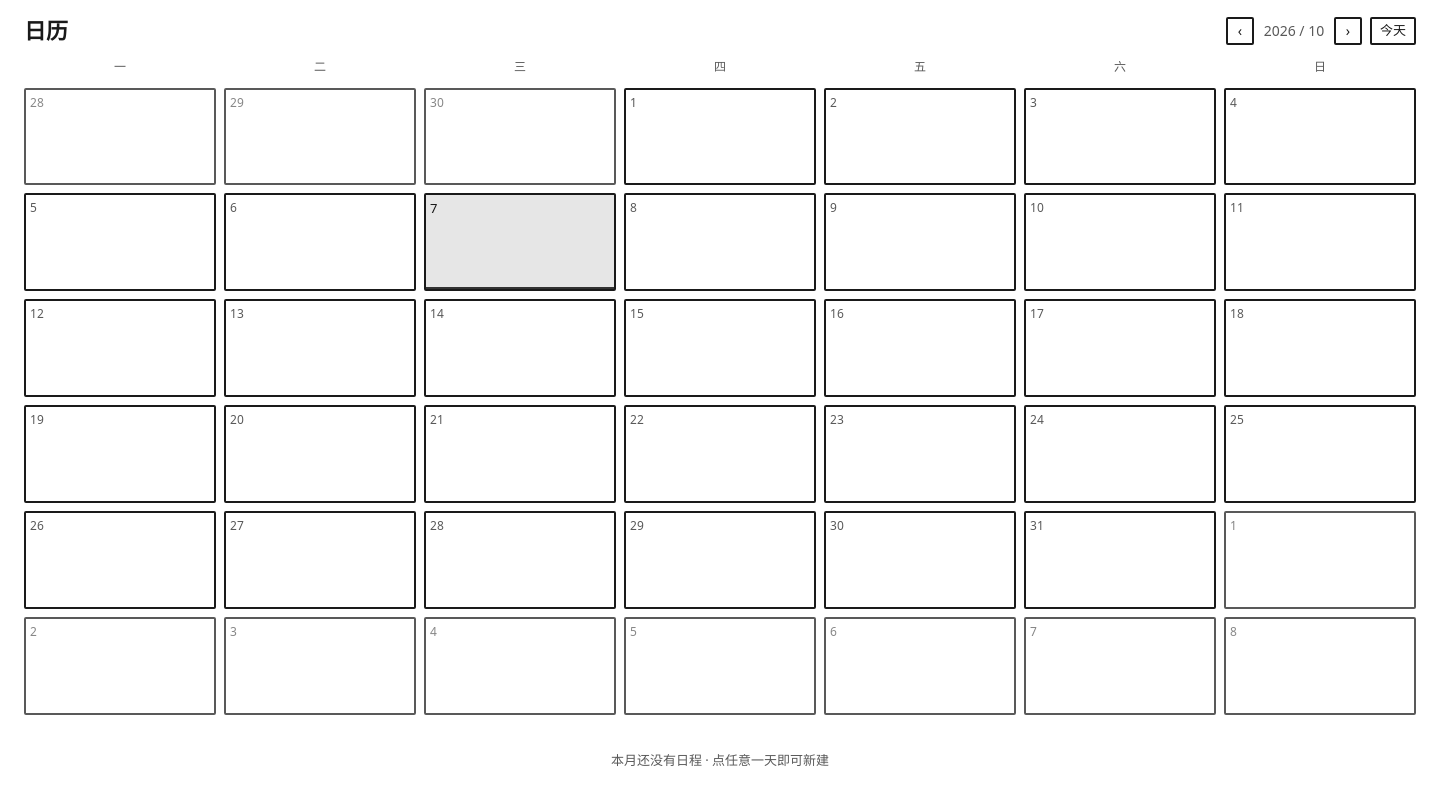
T97-01 二级栏 · 近 7 天 › ⑩ 跨栏联动：页面建日程后二级栏自动刷新（变更广播）
Click the 1st cell "7" at (520, 242), box [424, 194, 616, 291]
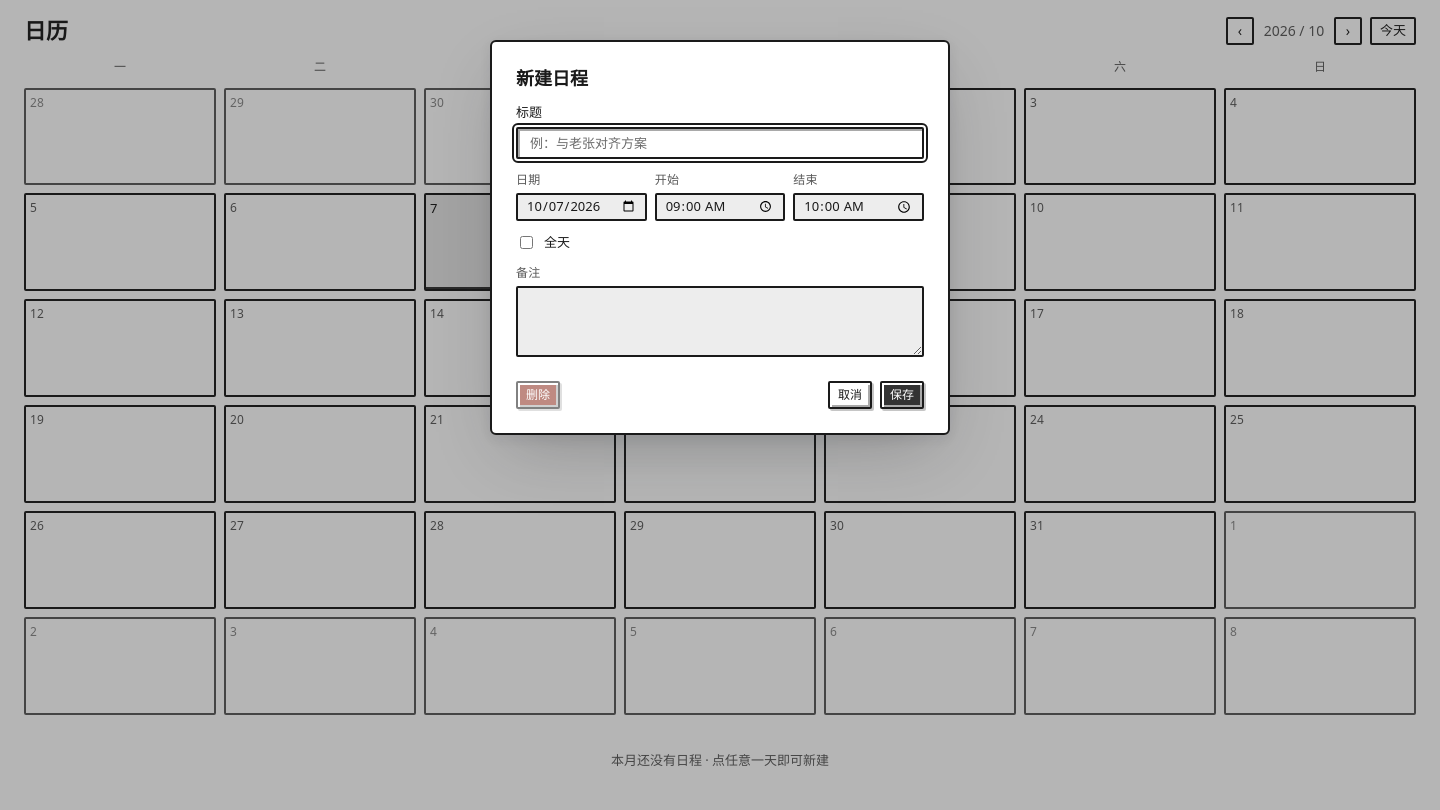
Type "联动日程" into the field with test id "calendar-event-title" at (720, 143), box [516, 127, 924, 159]
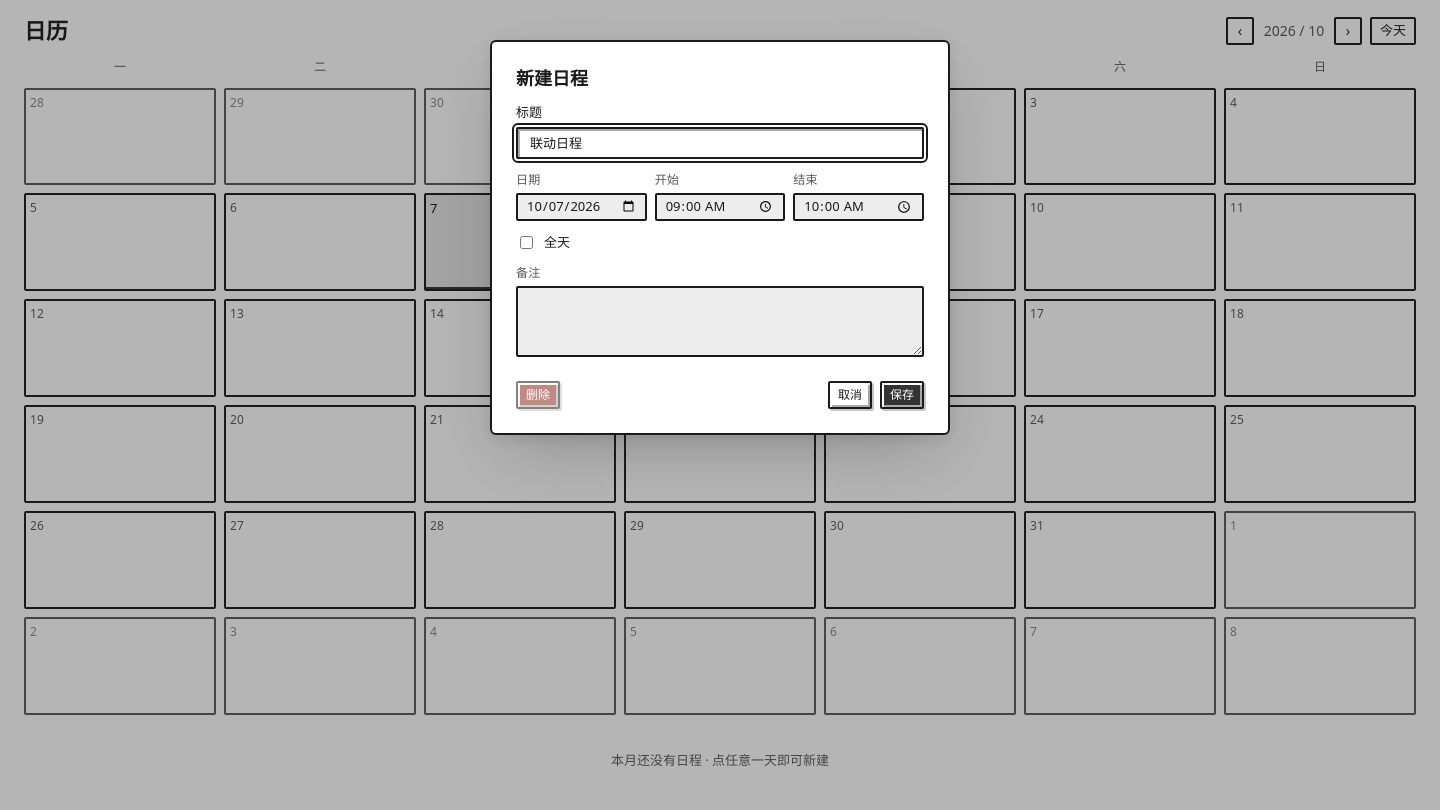
Click the button with test id "calendar-event-save" at (902, 395), box [880, 381, 924, 409]
(page scrolled)
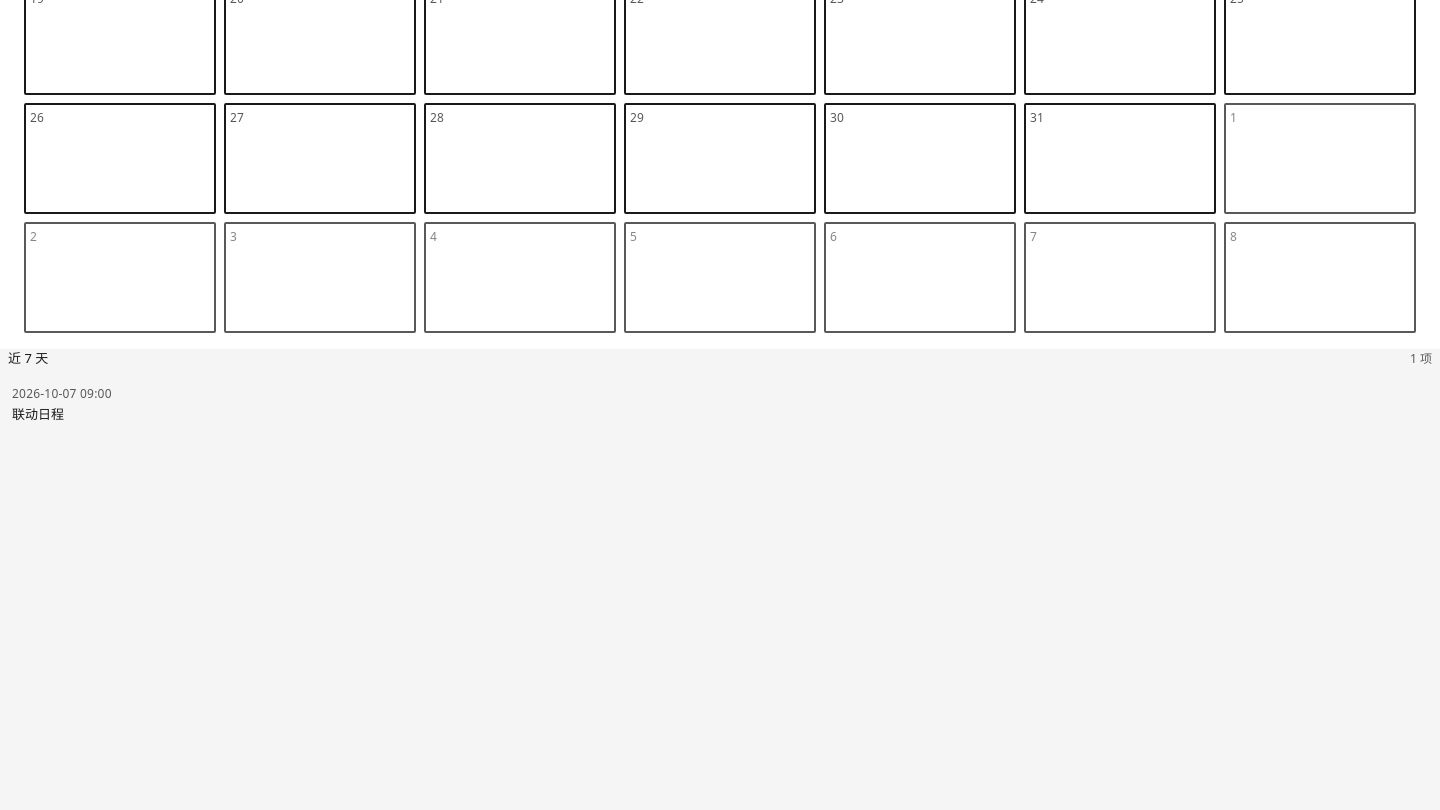
Result: the list item with test id "calendar-side-item-ev-1" shows "联动日程" at [12, 405, 64, 423]
